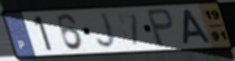1: (33, 15, 55, 53)
6: (56, 12, 83, 52)
7: (118, 13, 139, 46)
A: (181, 8, 214, 46)
J: (96, 11, 119, 50)
P: (145, 8, 176, 49)
